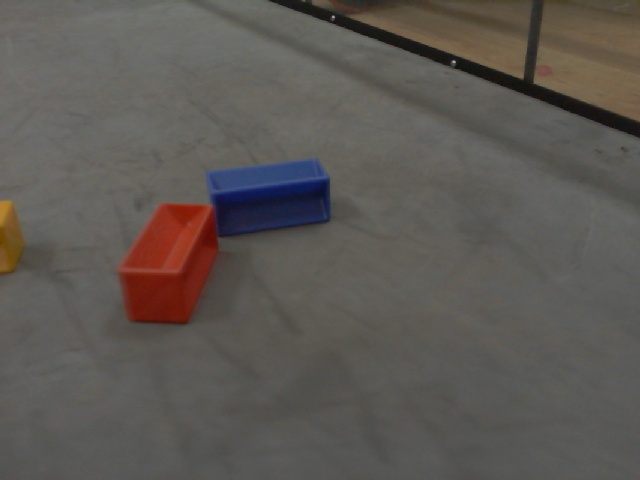BlueSample: (200, 158, 333, 239)
RedSample: (113, 199, 222, 330)
YellowSample: (1, 196, 27, 276)
